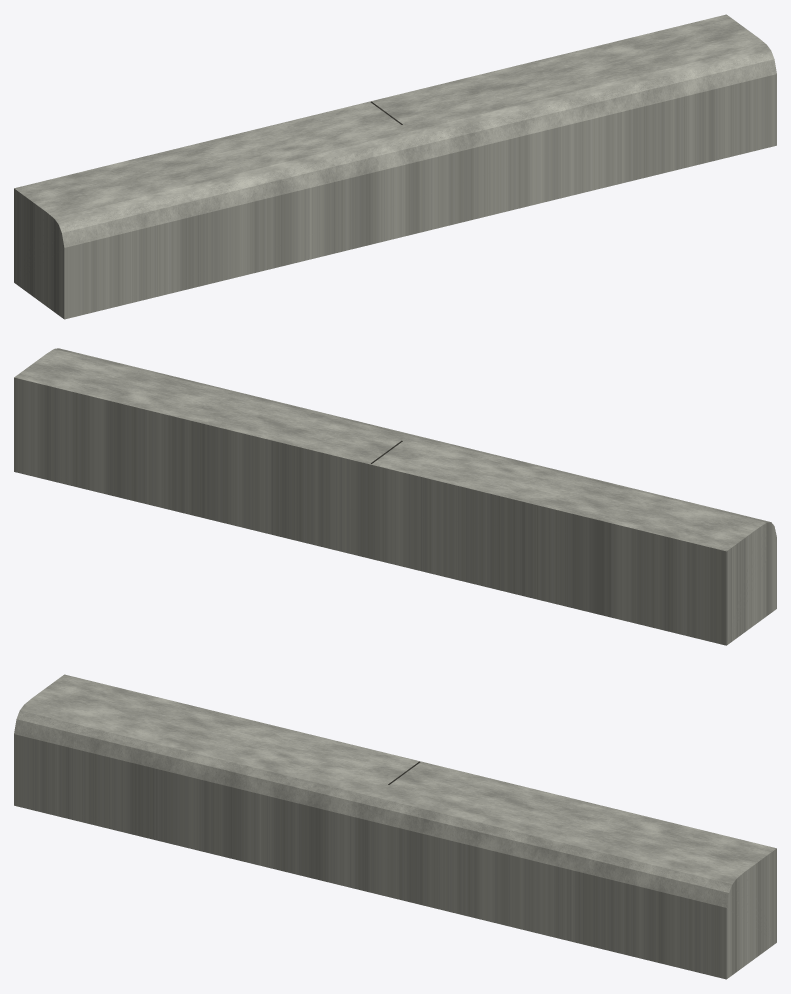
Rendered from PZ_Curb_2m.glb.
3 renders of one model, top to bottom at view 1: azimuth 30°, elevation 25°; view 2: azimuth 150°, elevation 25°; view 3: azimuth 330°, elevation 25°, orthographic.
Parts seen in each view (by area): view 1: PZ_Curb_2m__Curb_Stone; view 2: PZ_Curb_2m__Curb_Stone; view 3: PZ_Curb_2m__Curb_Stone.
Boxes of the visible parts, x1=… form: PZ_Curb_2m__Curb_Stone: x1=14, y1=14, x2=776, y2=319; PZ_Curb_2m__Curb_Stone: x1=14, y1=348, x2=776, y2=645; PZ_Curb_2m__Curb_Stone: x1=14, y1=674, x2=776, y2=979.
Bounding box in the file's own units: 2 × 0.2534 × 0.245.
Materials: 2 (2 with a texture image).
